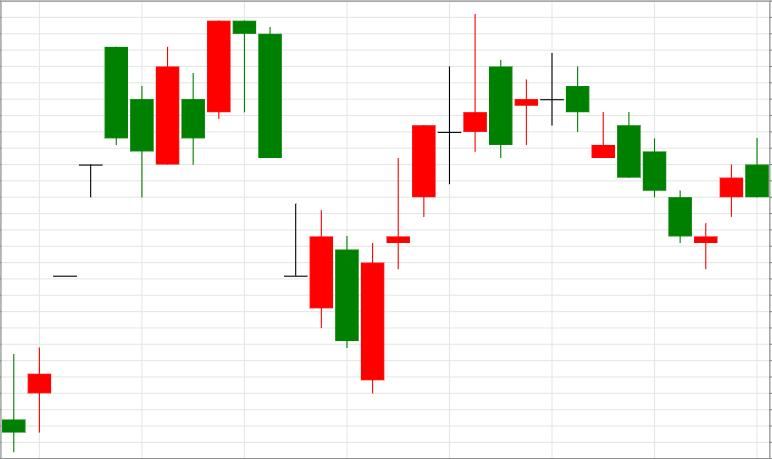morning_star_rise: (566, 67, 743, 270)
shooting_star_fall: (361, 13, 487, 392)
